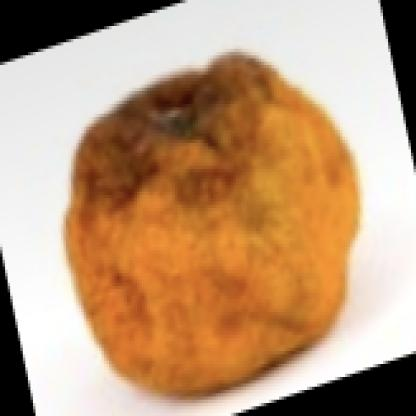rotten: (61, 58, 358, 390)
